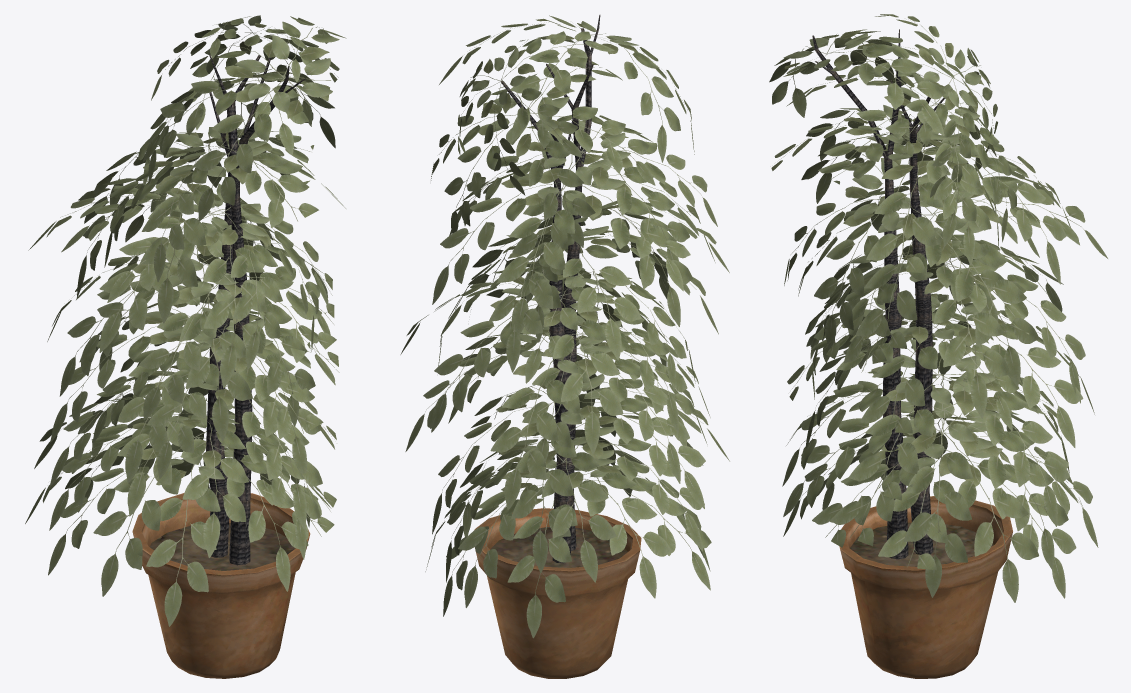
The model's file is potted_plant.fbx.
3 renders of one model, left to right at view 1: azimuth 30°, elevation 25°; view 2: azimuth 150°, elevation 25°; view 3: azimuth 270°, elevation 25°, orthographic. The views are drawn at different scales.
Parts seen in each view (by area): view 1: polySurface774; view 2: polySurface774; view 3: polySurface774.
Boxes of the visible parts, <box> form: polySurface774: <box>25,15,346,678</box>; polySurface774: <box>400,15,729,678</box>; polySurface774: <box>769,14,1107,678</box>.
Bounding box in the file's own units: 1.1 × 2.18 × 1.07.
4 materials, 4 textured.
